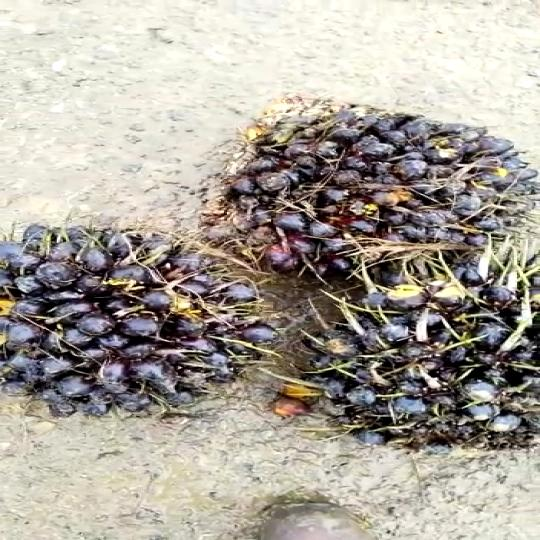mentah: (0, 204, 288, 418), (197, 97, 540, 268), (274, 265, 540, 451)
